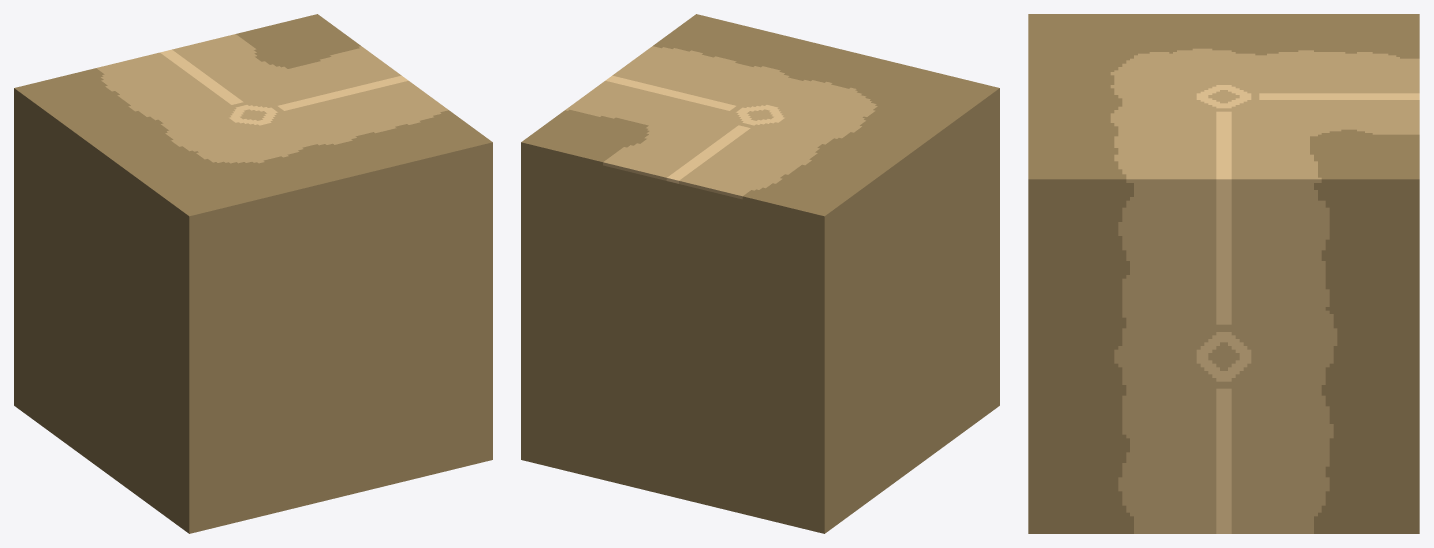
The model's file is floor2b_wallx2a2.obj.
The picture shows the model from 3 angles, left to right: view 1: azimuth 30°, elevation 25°; view 2: azimuth 150°, elevation 25°; view 3: azimuth 270°, elevation 25°; orthographic projection. The views are drawn at different scales.
Parts seen in each view (by area): view 1: floor2b_wallx2a2; view 2: floor2b_wallx2a2; view 3: floor2b_wallx2a2.
Part boxes in pixels (x1,y1,x2,y2): floor2b_wallx2a2: [14, 14, 492, 533]; floor2b_wallx2a2: [521, 14, 999, 533]; floor2b_wallx2a2: [1028, 14, 1419, 533].
Size of the model in its own units: 100 by 100 by 100.
1 material, 1 textured.
